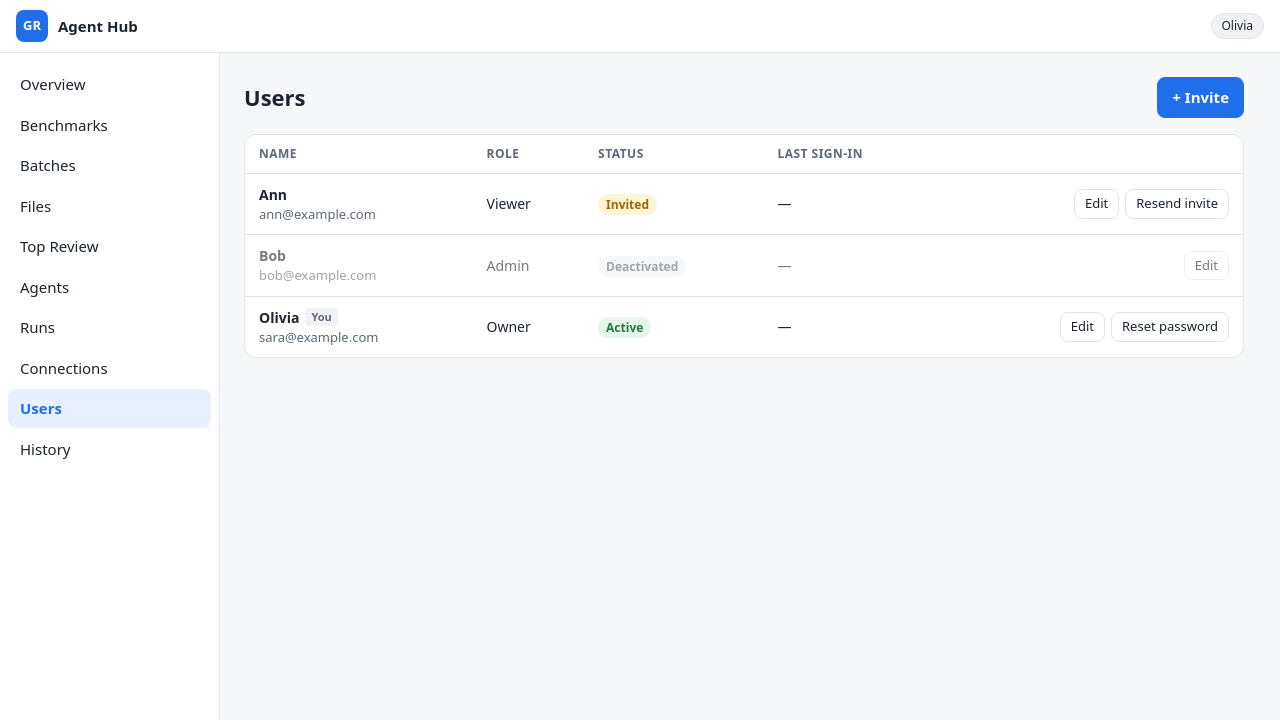
Test: field errors from the server appear in the invite form
Click the button "+ Invite": (1201, 97) [1157,77,1244,118]
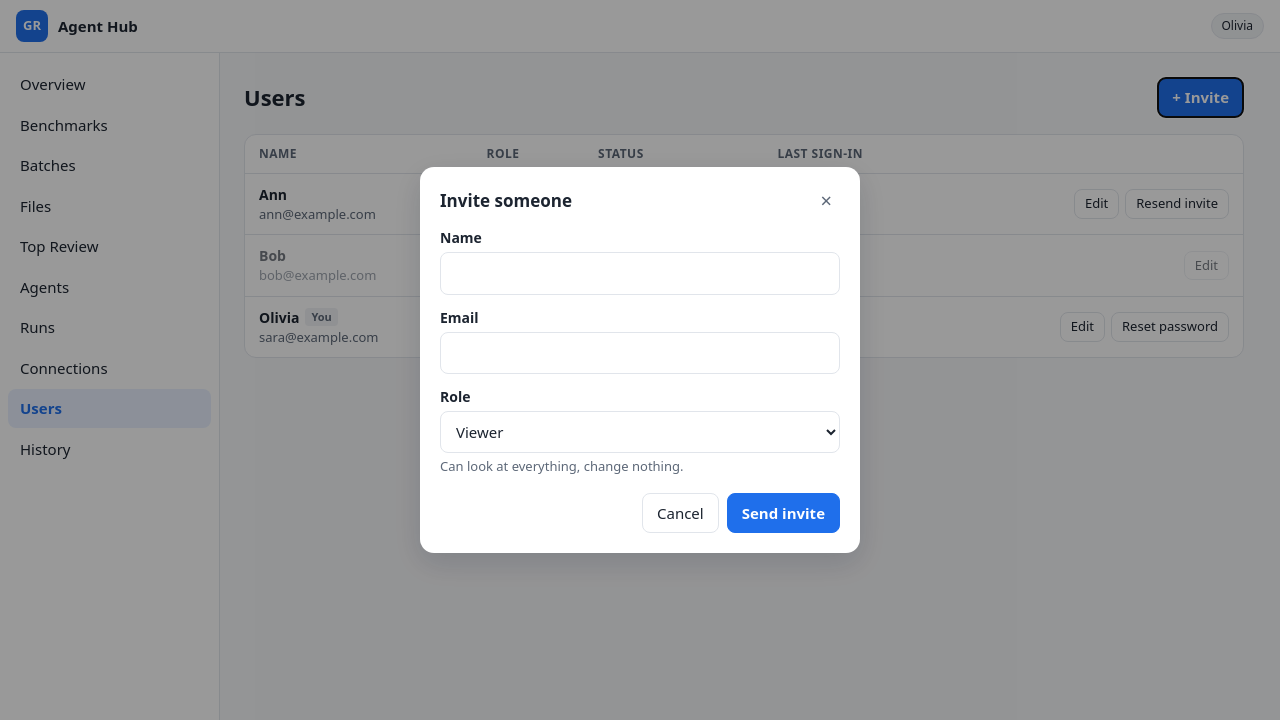
In the field labelled "Name": (640, 273) [440,252,840,294], type "Ann"
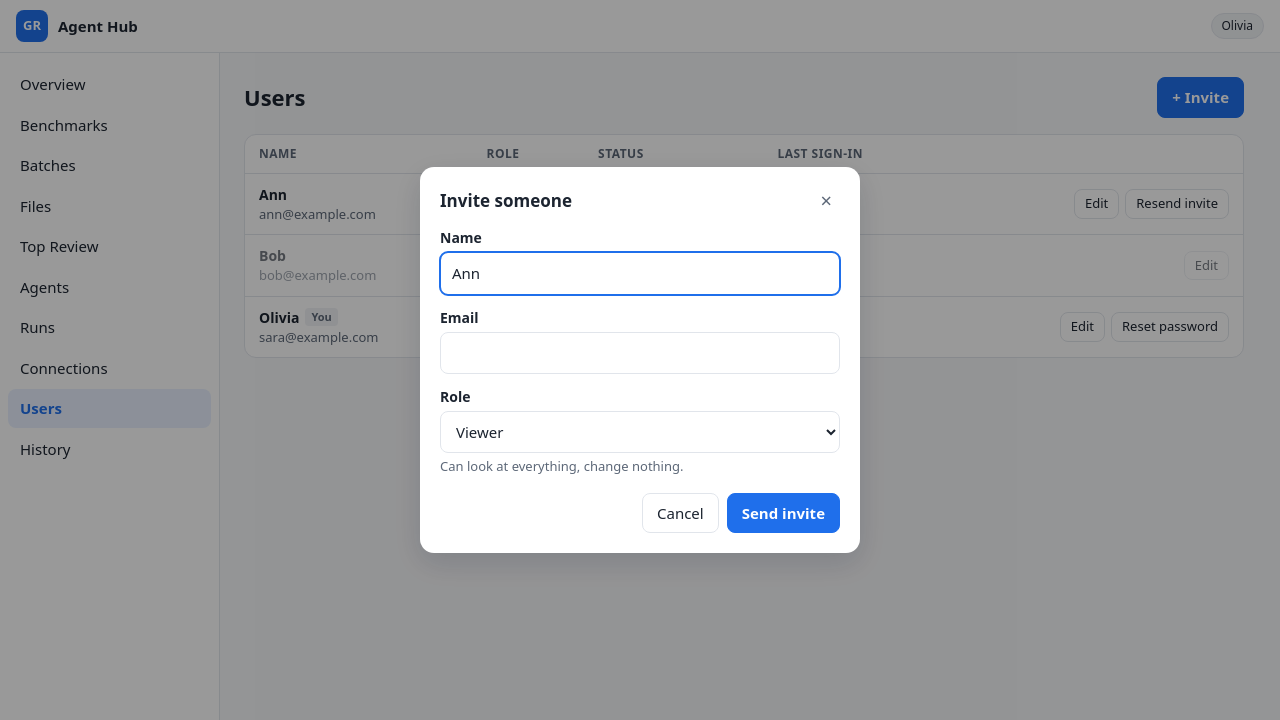
In the field labelled "Email": (640, 353) [440,332,840,374], type "ann@example.com"
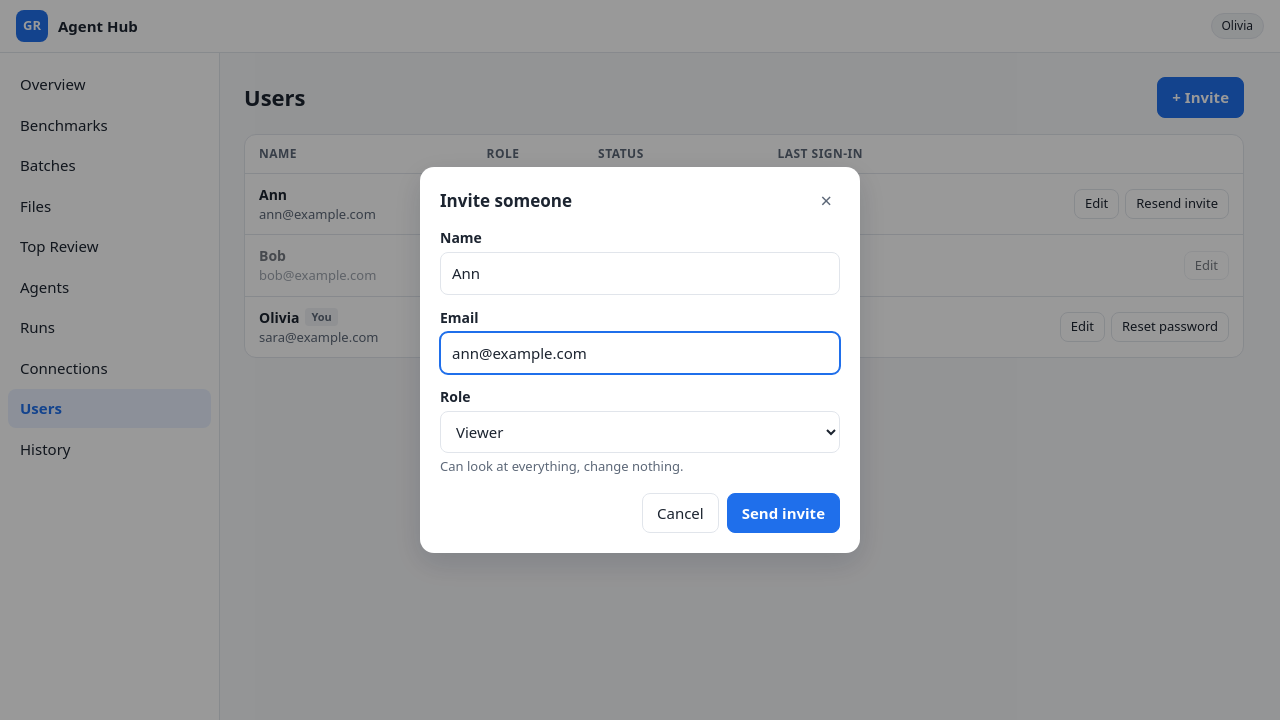
Click the button "Send invite": (783, 513) [727,492,840,533]
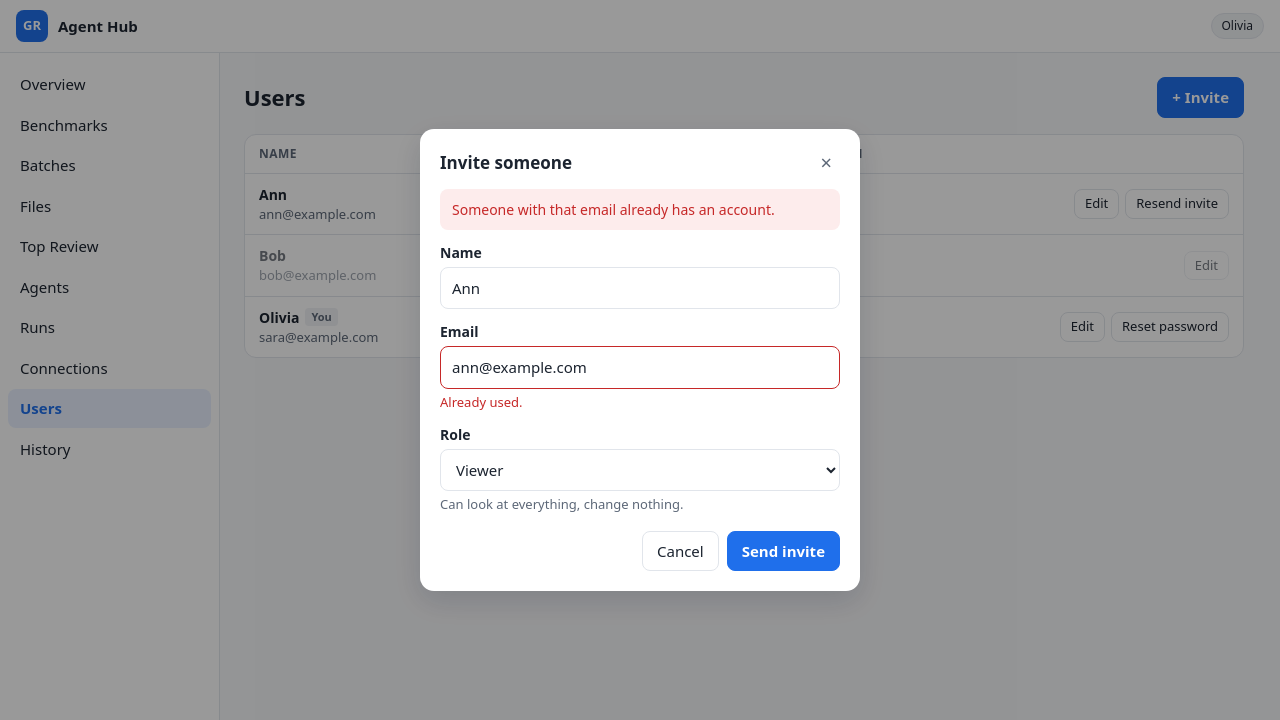
expect the text "Already used." is shown: met, box [440,393,522,411]
expect the message shows "already has an account": met, box [452,200,775,219]
